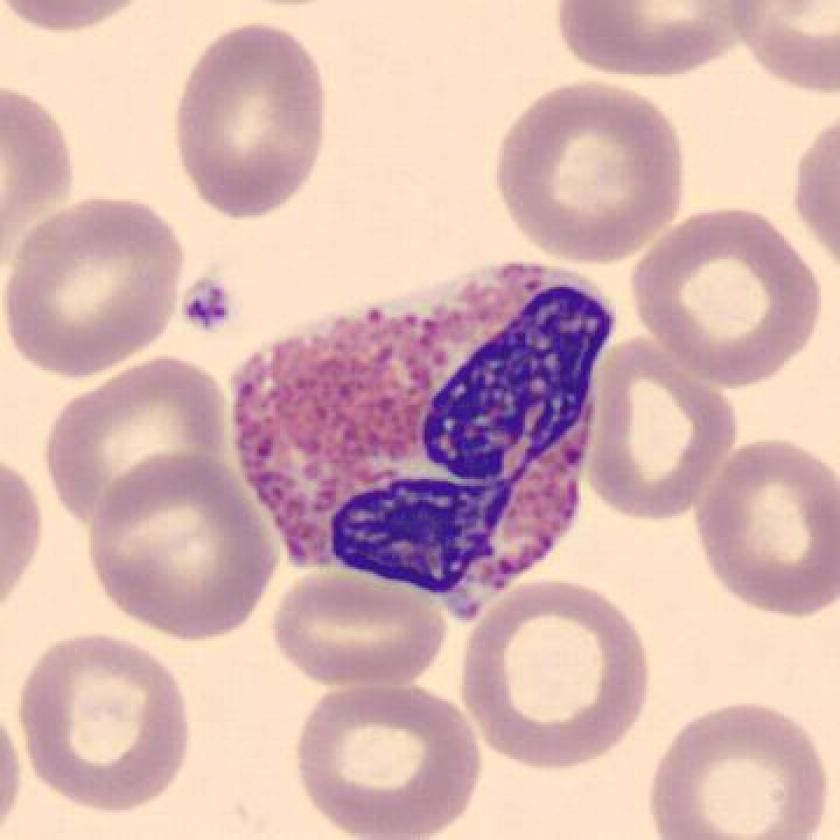eosinophil: (216, 244, 633, 628)
